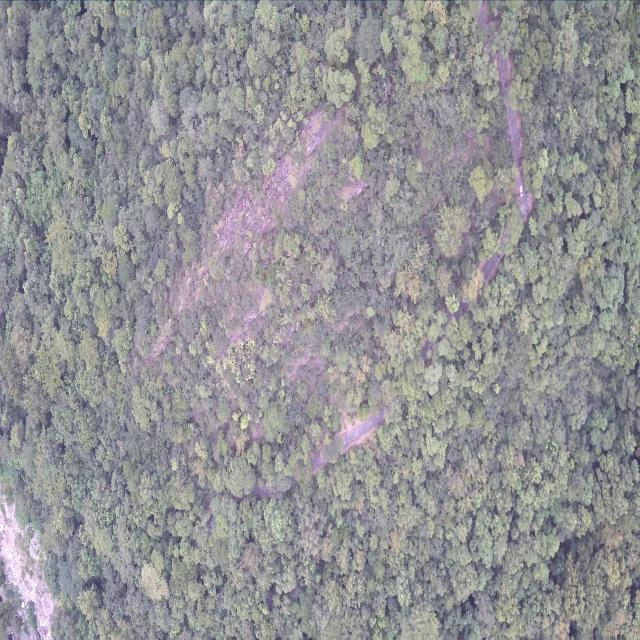UAV: (282, 69, 286, 75)
